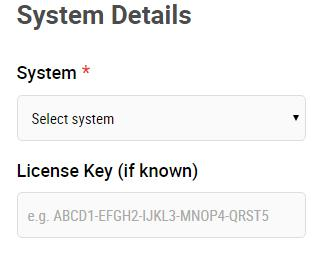field: (16, 93, 308, 143), (17, 190, 305, 239)
field_with_label: (14, 65, 311, 145), (15, 163, 307, 242)
